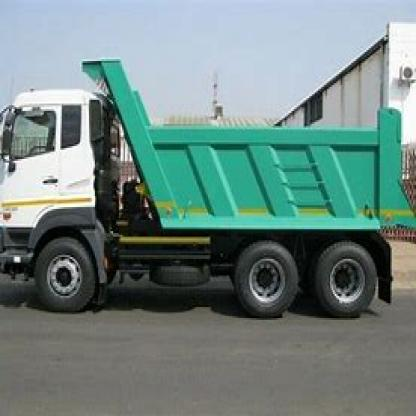dump_truck: (3, 55, 415, 350)
